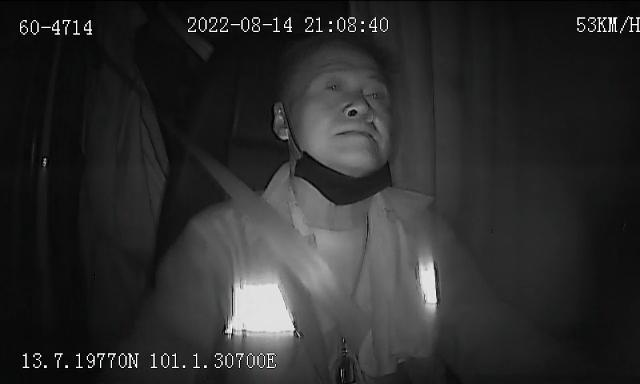SafeDriving: (358, 78, 391, 106), (319, 73, 349, 101)
Seatbelt: (193, 143, 389, 384)
